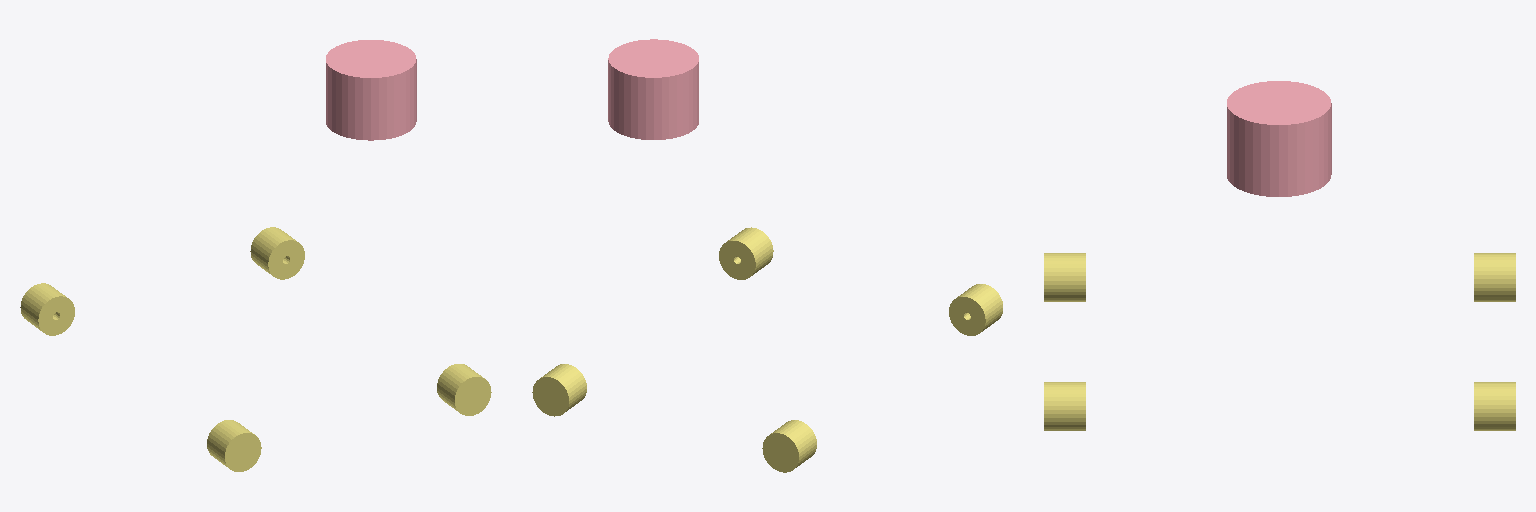
URDF robot description (car):
<?xml version="1.0" encoding="utf-8"?>
<!-- This URDF was automatically created by SolidWorks to URDF Exporter! Originally created by Stephen Brawner (brawner@gmail.com) 
     Commit Version: 1.6.0-4-g7f85cfe  Build Version: 1.6.7995.38578
     For more information, please see http://wiki.ros.org/sw_urdf_exporter -->
<robot name="car">
  <link name="base_link">
    <inertial>
      <origin xyz="-0.0049131 -0.00067085 0.1378" rpy="0 0 0" />
      <mass value="28.419" />
      <inertia ixx="0.064444" ixy="-1.1889E-05" ixz="-0.0021" iyy="0.11578" iyz="1.7337E-05" izz="0.10853" />
    </inertial>
    <visual>
      <origin xyz="0 0 0" rpy="0 0 0" />
      <geometry>
        <mesh filename="package://car/meshes/base_link.STL" />
      </geometry>
      <material name="">
        <color rgba="1 1 1 1" />
      </material>
    </visual>
    <collision>
      <origin xyz="0 0 0" rpy="0 0 0" />
      <geometry>
        <mesh filename="package://car/meshes/base_link.STL" />
      </geometry>
    </collision>
  </link>
  
  <!-- ========================== 轮子部分（完全保留） ========================== -->
  <link name="left_ahead_wheel">
    <inertial>
      <origin xyz="0 -0.0001766 0" rpy="0 0 0" />
      <mass value="0.048775" />
      <inertia ixx="1.1943E-05" ixy="-6.2489E-20" ixz="-1.4137E-08" iyy="2.1014E-05" iyz="-1.0289E-21" izz="1.2246E-05" />
    </inertial>
    <visual>
      <origin xyz="0 0 0" rpy="0 0 0" />
      <geometry>
        <mesh filename="package://car/meshes/left_ahead_wheel.STL" />
      </geometry>
      <material name="">
        <color rgba="0.941 0.902 0.549 1" />
      </material>
    </visual>
    <collision>
      <origin xyz="0 0 0" rpy="0 0 0" />
      <geometry>
        <mesh filename="package://car/meshes/left_ahead_wheel.STL" />
      </geometry>
    </collision>
  </link>

  <joint name="left_ahead_wheel_joint" type="continuous">
    <origin xyz="0.156 0.219 0" rpy="0 0 0" />
    <parent link="base_link" />
    <child link="left_ahead_wheel" />
    <axis xyz="0 1 0" />
  </joint>

  <link name="left_back_wheel">
    <inertial>
      <origin xyz="0 -0.0001766 -1.7347E-18" rpy="0 0 0" />
      <mass value="0.048775" />
      <inertia ixx="1.1945E-05" ixy="-6.3781E-20" ixz="-2.9355E-08" iyy="2.1014E-05" iyz="1.0732E-22" izz="1.2244E-05" />
    </inertial>
    <visual>
      <origin xyz="0 0 0" rpy="0 0 0" />
      <geometry>
        <mesh filename="package://car/meshes/left_back_wheel.STL" />
      </geometry>
      <material name="">
        <color rgba="0.941 0.902 0.549 1" />
      </material>
    </visual>
    <collision>
      <origin xyz="0 0 0" rpy="0 0 0" />
      <geometry>
        <mesh filename="package://car/meshes/left_back_wheel.STL" />
      </geometry>
    </collision>
  </link>

  <joint name="left_back_wheel_joint" type="continuous">
    <origin xyz="-0.156 0.219 0" rpy="0 0 0" />
    <parent link="base_link" />
    <child link="left_back_wheel" />
    <axis xyz="0 1 0" />
  </joint>

  <link name="right_ahead_wheel">
    <inertial>
      <origin xyz="0 0.0001766 1.7347E-18" rpy="0 0 0" />
      <mass value="0.048775" />
      <inertia ixx="1.1943E-05" ixy="6.2566E-20" ixz="-1.4137E-08" iyy="2.1014E-05" iyz="-6.6637E-22" izz="1.2246E-05" />
    </inertial>
    <visual>
      <origin xyz="0 0 0" rpy="0 0 0" />
      <geometry>
        <mesh filename="package://car/meshes/right_ahead_wheel.STL" />
      </geometry>
      <material name="">
        <color rgba="0.941 0.902 0.549 1" />
      </material>
    </visual>
    <collision>
      <origin xyz="0 0 0" rpy="0 0 0" />
      <geometry>
        <mesh filename="package://car/meshes/right_ahead_wheel.STL" />
      </geometry>
    </collision>
  </link>

  <joint name="right_ahead_wheel_joint" type="continuous">
    <origin xyz="0.156 -0.219 0" rpy="0 0 0" />
    <parent link="base_link" />
    <child link="right_ahead_wheel" />
    <axis xyz="0 1 0" />
  </joint>
  
  <link name="right_back_wheel">
    <inertial>
      <origin xyz="5.5511E-17 0.0001766 0" rpy="0 0 0" />
      <mass value="0.048775" />
      <inertia ixx="1.1945E-05" ixy="6.3024E-20" ixz="-2.9355E-08" iyy="2.1014E-05" iyz="-2.06E-21" izz="1.2244E-05" />
    </inertial>
    <visual>
      <origin xyz="0 0 0" rpy="0 0 0" />
      <geometry>
        <mesh filename="package://car/meshes/right_back_wheel.STL" />
      </geometry>
      <material name="">
        <color rgba="0.941 0.902 0.549 1" />
      </material>
    </visual>
    <collision>
      <origin xyz="0 0 0" rpy="0 0 0" />
      <geometry>
        <mesh filename="package://car/meshes/right_back_wheel.STL" />
      </geometry>
    </collision>
  </link>

  <joint name="right_back_wheel_joint" type="continuous">
    <origin xyz="-0.156 -0.219 0" rpy="0 0 0" />
    <parent link="base_link" />
    <child link="right_back_wheel" />
    <axis xyz="0 1 0" />
  </joint>

  <!-- ========================== 激光雷达（完全保留） ========================== -->
  <link name="lidar">
    <inertial>
      <origin xyz="-1.6237E-15 3.3307E-16 -4.4409E-16" rpy="0 0 0" />
      <mass value="0.74292" />
      <inertia ixx="0.0009378" ixy="1.0308E-34" ixz="4.6171E-19" iyy="0.0009378" iyz="2.7848E-20" izz="0.0010632" />
    </inertial>
    <visual>
      <origin xyz="0 0 0" rpy="0 0 0" />
      <geometry>
        <mesh filename="package://car/meshes/lidar.STL" />
      </geometry>
      <material name="">
        <color rgba="1 0.714 0.757 1" />
      </material>
    </visual>
    <collision>
      <origin xyz="0 0 0" rpy="0 0 0" />
      <geometry>
        <mesh filename="package://car/meshes/lidar.STL" />
      </geometry>
    </collision>
  </link>

  <joint name="lidar_joint" type="fixed">
    <origin xyz="0.1555 -0.0010002 0.3007" rpy="0 0 0" />
    <parent link="base_link" />
    <child link="lidar" />
    <axis xyz="0 0 0" />
  </joint>

  <!-- ========================== 相机坐标系（完全保留） ========================== -->
  <link name="camera_link">
    <visual>
      <origin xyz="0 0 0" rpy="-1.57 0 -1.57"/>
      <geometry>
        <mesh filename="package://realsense2_description/meshes/d435.dae"/>
      </geometry>
      <material name="gray"/>
    </visual>
    <collision>
      <origin xyz="0 0 0" rpy="-1.57 0 -1.57"/>
      <geometry>
        <box size="0.025 0.090 0.025"/>
      </geometry>
    </collision>
    <inertial>
      <mass value="0.072"/>
      <origin xyz="0 0 0" rpy="0 0 0"/>
      <inertia ixx="0.0001" ixy="0" ixz="0" iyy="0.0001" iyz="0" izz="0.0001"/>
    </inertial>
  </link>
  <joint name="camera_joint" type="fixed">
    <parent link="base_link"/>
    <child link="camera_link"/>
    <origin xyz="0.2549 -0.0037612 0.22883" rpy="0 0 0"/>
  </joint>

  <!-- D435i官方坐标系链：depth/infra/color/imu -->
  <link name="camera_depth_frame"/>
  <joint name="camera_depth_joint" type="fixed">
    <parent link="camera_link"/>
    <child link="camera_depth_frame"/>
    <origin xyz="0 0 0" rpy="0 0 0"/>
  </joint>
  <link name="camera_depth_optical_frame"/>
  <joint name="camera_depth_optical_joint" type="fixed">
    <parent link="camera_depth_frame"/>
    <child link="camera_depth_optical_frame"/>
    <origin xyz="0 0 0" rpy="-1.57079632679 0 -1.57079632679"/>
  </joint>

  <link name="camera_infra1_frame"/>
  <joint name="camera_infra1_joint" type="fixed">
    <parent link="camera_link"/>
    <child link="camera_infra1_frame"/>
    <origin xyz="0 0 0" rpy="0 0 0"/>
  </joint>
  <link name="camera_infra1_optical_frame"/>
  <joint name="camera_infra1_optical_joint" type="fixed">
    <parent link="camera_infra1_frame"/>
    <child link="camera_infra1_optical_frame"/>
    <origin xyz="0 0 0" rpy="-1.57079632679 0 -1.57079632679"/>
  </joint>

  <link name="camera_infra2_frame"/>
  <joint name="camera_infra2_joint" type="fixed">
    <parent link="camera_link"/>
    <child link="camera_infra2_frame"/>
    <origin xyz="0 -0.050 0" rpy="0 0 0"/>
  </joint>
  <link name="camera_infra2_optical_frame"/>
  <joint name="camera_infra2_optical_joint" type="fixed">
    <parent link="camera_infra2_frame"/>
    <child link="camera_infra2_optical_frame"/>
    <origin xyz="0 0 0" rpy="-1.57079632679 0 -1.57079632679"/>
  </joint>

  <link name="camera_color_frame"/>
  <joint name="camera_color_joint" type="fixed">
    <parent link="camera_link"/>
    <child link="camera_color_frame"/>
    <origin xyz="0 0.015 0" rpy="0 0 0"/>
  </joint>
  <link name="camera_color_optical_frame"/>
  <joint name="camera_color_optical_joint" type="fixed">
    <parent link="camera_color_frame"/>
    <child link="camera_color_optical_frame"/>
    <origin xyz="0 0 0" rpy="-1.57079632679 0 -1.57079632679"/>
  </joint>

  <link name="camera_imu_frame"/>
  <joint name="camera_imu_joint" type="fixed">
    <parent link="camera_link"/>
    <child link="camera_imu_frame"/>
    <origin xyz="-0.01174 -0.00552 0.0051" rpy="0 0 0"/>
  </joint>
  <link name="camera_imu_optical_frame"/>
  <joint name="camera_imu_optical_joint" type="fixed">
    <parent link="camera_imu_frame"/>
    <child link="camera_imu_optical_frame"/>
    <origin xyz="0 0 0" rpy="-1.57079632679 0 -1.57079632679"/>
  </joint>

  <link name="camera_accel_frame"/>
  <joint name="camera_accel_joint" type="fixed">
    <parent link="camera_link"/>
    <child link="camera_accel_frame"/>
    <origin xyz="-0.01174 -0.00552 0.0051" rpy="0 0 0"/>
  </joint>
  <link name="camera_accel_optical_frame"/>
  <joint name="camera_accel_optical_joint" type="fixed">
    <parent link="camera_accel_frame"/>
    <child link="camera_accel_optical_frame"/>
    <origin xyz="0 0 0" rpy="-1.57079632679 0 -1.57079632679"/>
  </joint>

  <link name="camera_gyro_frame"/>
  <joint name="camera_gyro_joint" type="fixed">
    <parent link="camera_link"/>
    <child link="camera_gyro_frame"/>
    <origin xyz="-0.01174 -0.00552 0.0051" rpy="0 0 0"/>
  </joint>
  <link name="camera_gyro_optical_frame"/>
  <joint name="camera_gyro_optical_joint" type="fixed">
    <parent link="camera_gyro_frame"/>
    <child link="camera_gyro_optical_frame"/>
    <origin xyz="0 0 0" rpy="-1.57079632679 0 -1.57079632679"/>
  </joint>



<!-- ========================== 仿真内容（轮子、差速、激光雷达全部保留） ========================== -->
  <!-- 轮子摩擦和接触参数 -->
  <gazebo reference="left_ahead_wheel">
    <mu1>1.0</mu1>
    <mu2>1.0</mu2>
    <kp>1000000.0</kp>
    <kd>1.0</kd>
    <minDepth>0.001</minDepth>
    <maxVel>1.0</maxVel>
  </gazebo>
  <gazebo reference="left_back_wheel">
    <mu1>1.0</mu1>
    <mu2>1.0</mu2>
    <kp>1000000.0</kp>
    <kd>1.0</kd>
    <minDepth>0.001</minDepth>
    <maxVel>1.0</maxVel>
  </gazebo>
  <gazebo reference="right_ahead_wheel">
    <mu1>1.0</mu1>
    <mu2>1.0</mu2>
    <kp>1000000.0</kp>
    <kd>1.0</kd>
    <minDepth>0.001</minDepth>
    <maxVel>1.0</maxVel>
  </gazebo>
  <gazebo reference="right_back_wheel">
    <mu1>1.0</mu1>
    <mu2>1.0</mu2>
    <kp>1000000.0</kp>
    <kd>1.0</kd>
    <minDepth>0.001</minDepth>
    <maxVel>1.0</maxVel>
  </gazebo>

  <!-- Velodyne VLP-16（官方velodyne_description参数） -->
  <gazebo reference="lidar">
    <sensor type="ray" name="lidar_vlp16">
      <pose>0 0 0 0 0 0</pose>
      <visualize>false</visualize>
      <update_rate>10.0</update_rate>
      <ray>
        <scan>
          <horizontal>
            <samples>1875</samples>
            <resolution>1</resolution>
            <min_angle>-3.1415926535897931</min_angle>
            <max_angle>3.1415926535897931</max_angle>
          </horizontal>
          <vertical>
            <samples>16</samples>
            <resolution>1</resolution>
            <min_angle>-0.2617993877991494</min_angle>
            <max_angle>0.2617993877991494</max_angle>
          </vertical>
        </scan>
        <range>
          <min>0.09</min>
          <max>131.0</max>
          <resolution>0.001</resolution>
        </range>
        <noise>
          <type>gaussian</type>
          <mean>0.0</mean>
          <stddev>0.0</stddev>
        </noise>
      </ray>
      <plugin name="gazebo_ros_lidar_controller" filename="libgazebo_ros_velodyne_laser.so">
        <topicName>/velodyne_points</topicName>
        <frameName>lidar</frameName>
        <organize_cloud>false</organize_cloud>
        <min_range>0.09</min_range>
        <max_range>130.0</max_range>
        <gaussianNoise>0.008</gaussianNoise>
      </plugin>
    </sensor>
  </gazebo>

  <!-- RealSense D435i（官方D435i坐标系+realsense_gazebo_plugin） -->
  <gazebo reference="camera_link">
    <sensor type="depth" name="camera_depth">
      <always_on>true</always_on>
      <visualize>false</visualize>
      <update_rate>30.0</update_rate>
      <camera name="depth_camera">
        <horizontal_fov>1.5184364492350666</horizontal_fov>
        <image>
          <width>1280</width>
          <height>720</height>
          <format>RGB_INT8</format>
        </image>
        <clip>
          <near>0.105</near>
          <far>10.0</far>
        </clip>
      </camera>
    </sensor>

    <sensor type="camera" name="camera_ired1">
      <always_on>true</always_on>
      <visualize>false</visualize>
      <update_rate>30.0</update_rate>
      <pose>0 0 0 0 0 0</pose>
      <camera name="infrared1_camera">
        <horizontal_fov>1.5184364492350666</horizontal_fov>
        <image>
          <width>1280</width>
          <height>720</height>
          <format>L_INT8</format>
        </image>
        <clip>
          <near>0.105</near>
          <far>10.0</far>
        </clip>
      </camera>
    </sensor>

    <sensor type="camera" name="camera_ired2">
      <always_on>true</always_on>
      <visualize>false</visualize>
      <update_rate>30.0</update_rate>
      <pose>0 -0.050 0 0 0 0</pose>
      <camera name="infrared2_camera">
        <horizontal_fov>1.5184364492350666</horizontal_fov>
        <image>
          <width>1280</width>
          <height>720</height>
          <format>L_INT8</format>
        </image>
        <clip>
          <near>0.105</near>
          <far>10.0</far>
        </clip>
      </camera>
    </sensor>

    <sensor type="camera" name="camera_color">
      <always_on>true</always_on>
      <visualize>false</visualize>
      <update_rate>30.0</update_rate>
      <pose>0 0.015 0 0 0 0</pose>
      <camera name="color_camera">
        <horizontal_fov>1.211258531</horizontal_fov>
        <image>
          <width>1920</width>
          <height>1080</height>
          <format>RGB_INT8</format>
        </image>
        <clip>
          <near>0.105</near>
          <far>10.0</far>
        </clip>
      </camera>
    </sensor>
  </gazebo>

  <gazebo reference="camera_imu_frame">
    <sensor type="imu" name="camera_imu_sensor">
      <always_on>true</always_on>
      <visualize>false</visualize>
      <update_rate>200.0</update_rate>
      <imu>
        <angular_velocity>
          <x>
            <noise type="gaussian">
              <mean>0.0</mean>
              <stddev>0.00244</stddev>
            </noise>
          </x>
          <y>
            <noise type="gaussian">
              <mean>0.0</mean>
              <stddev>0.00244</stddev>
            </noise>
          </y>
          <z>
            <noise type="gaussian">
              <mean>0.0</mean>
              <stddev>0.00244</stddev>
            </noise>
          </z>
        </angular_velocity>
        <linear_acceleration>
          <x>
            <noise type="gaussian">
              <mean>0.0</mean>
              <stddev>0.018</stddev>
            </noise>
          </x>
          <y>
            <noise type="gaussian">
              <mean>0.0</mean>
              <stddev>0.018</stddev>
            </noise>
          </y>
          <z>
            <noise type="gaussian">
              <mean>0.0</mean>
              <stddev>0.018</stddev>
            </noise>
          </z>
        </linear_acceleration>
      </imu>
      <plugin name="camera_imu_plugin" filename="libgazebo_ros_imu_sensor.so">
        <topicName>/camera/imu</topicName>
        <frameName>camera_imu_frame</frameName>
        <updateRateHZ>200.0</updateRateHZ>
        <gaussianNoise>0.0</gaussianNoise>
        <xyzOffset>0 0 0</xyzOffset>
        <rpyOffset>0 0 0</rpyOffset>
      </plugin>
    </sensor>
  </gazebo>

  <gazebo>
    <plugin name="realsense_d435i_controller" filename="librealsense_gazebo_plugin.so">
      <prefix>camera_</prefix>
      <depthUpdateRate>30.0</depthUpdateRate>
      <colorUpdateRate>30.0</colorUpdateRate>
      <infraredUpdateRate>30.0</infraredUpdateRate>
      <depthTopicName>/camera/depth/image_rect_raw</depthTopicName>
      <depthCameraInfoTopicName>/camera/depth/camera_info</depthCameraInfoTopicName>
      <colorTopicName>/camera/color/image_raw</colorTopicName>
      <colorCameraInfoTopicName>/camera/color/camera_info</colorCameraInfoTopicName>
      <infrared1TopicName>/camera/infra1/image_rect_raw</infrared1TopicName>
      <infrared1CameraInfoTopicName>/camera/infra1/camera_info</infrared1CameraInfoTopicName>
      <infrared2TopicName>/camera/infra2/image_rect_raw</infrared2TopicName>
      <infrared2CameraInfoTopicName>/camera/infra2/camera_info</infrared2CameraInfoTopicName>
      <colorOpticalframeName>camera_color_optical_frame</colorOpticalframeName>
      <depthOpticalframeName>camera_depth_optical_frame</depthOpticalframeName>
      <infrared1OpticalframeName>camera_infra1_optical_frame</infrared1OpticalframeName>
      <infrared2OpticalframeName>camera_infra2_optical_frame</infrared2OpticalframeName>
      <rangeMinDepth>0.105</rangeMinDepth>
      <rangeMaxDepth>10.0</rangeMaxDepth>
      <pointCloud>true</pointCloud>
      <pointCloudTopicName>/camera/depth/color/points</pointCloudTopicName>
      <pointCloudCutoff>0.105</pointCloudCutoff>
      <pointCloudCutoffMax>10.0</pointCloudCutoffMax>
      <robotNamespace>/</robotNamespace>
    </plugin>
  </gazebo>

  <!-- 运动学 -->
  <gazebo>
    <plugin name="differential_drive_controller" filename="libgazebo_ros_diff_drive.so">
      <ros>
        <namespace></namespace>
      </ros>
      <!-- FAST-LIO作为主里程计时，关闭Gazebo轮速里程计发布，避免与FAST-LIO重复发布里程计/TF -->
      <!-- 以前是true：用于纯Gazebo差速里程计；现在改为false：由FAST-LIO输出位姿 -->
      <publishOdom>false</publishOdom>
      <publishOdomTF>false</publishOdomTF>
      <publishWheelTF>false</publishWheelTF>
      <odometryFrame>odom</odometryFrame>
      <robotBaseFrame>base_link</robotBaseFrame>
      <leftJoint>left_ahead_wheel_joint</leftJoint>
      <leftJoint>left_back_wheel_joint</leftJoint>
      <rightJoint>right_ahead_wheel_joint</rightJoint>
      <rightJoint>right_back_wheel_joint</rightJoint>
      <wheelSeparation>0.438</wheelSeparation>
      <wheelDiameter>0.058</wheelDiameter>
      <wheelTorque>10.0</wheelTorque>
      <wheelAcceleration>10.0</wheelAcceleration>
      <commandTopic>cmd_vel</commandTopic>
      <odometryTopic>odom</odometryTopic>
      <updateRate>100</updateRate>
    </plugin>
  </gazebo>


</robot>

--- What the picture shows (computed from the rendered views, not written in the file) ---
The picture shows the robot from 3 angles, left to right: view 1: azimuth 30°, elevation 25°; view 2: azimuth 150°, elevation 25°; view 3: azimuth 270°, elevation 25°; orthographic projection.
Model car with 21 links and 20 joints (4 continuous, 16 fixed), rooted at base_link, posed all joints at 0.
Visible links, largest first — view 1: lidar, left_back_wheel, right_ahead_wheel, left_ahead_wheel, right_back_wheel; view 2: lidar, right_ahead_wheel, left_back_wheel, left_ahead_wheel, right_back_wheel; view 3: lidar, left_ahead_wheel, left_back_wheel, right_ahead_wheel, right_back_wheel.
Boxes of the visible links, x1,y1,x2,y2 form: lidar: (326,40,416,140); left_back_wheel: (20,283,74,335); right_ahead_wheel: (437,364,491,415); left_ahead_wheel: (250,227,304,279); right_back_wheel: (207,420,261,471); lidar: (608,39,698,139); right_ahead_wheel: (719,227,773,279); left_back_wheel: (762,420,816,472); left_ahead_wheel: (532,364,586,416); right_back_wheel: (949,284,1002,335); lidar: (1227,81,1331,196); left_ahead_wheel: (1474,382,1515,430); left_back_wheel: (1474,253,1515,301); right_ahead_wheel: (1044,382,1085,430); right_back_wheel: (1044,253,1085,301).
Bounding box of the posed robot: 0.39 × 0.48 × 0.3662 m (x, y, z).
Meshes: 7 distinct files referenced, 5 mesh visuals loaded (5 binary STL); not drawn: 2 (reference not matched to a file when rendering).
